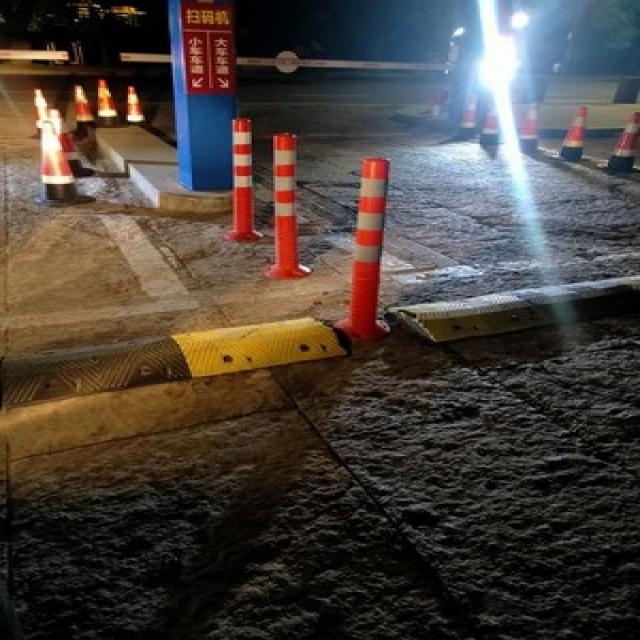reflective_cone: (32, 119, 92, 204), (593, 109, 638, 171), (548, 104, 591, 160), (87, 75, 124, 125), (514, 99, 546, 154), (472, 98, 504, 144), (68, 83, 94, 130), (122, 83, 147, 123)
warning_column: (330, 155, 392, 341), (260, 130, 310, 276), (222, 117, 260, 240)
